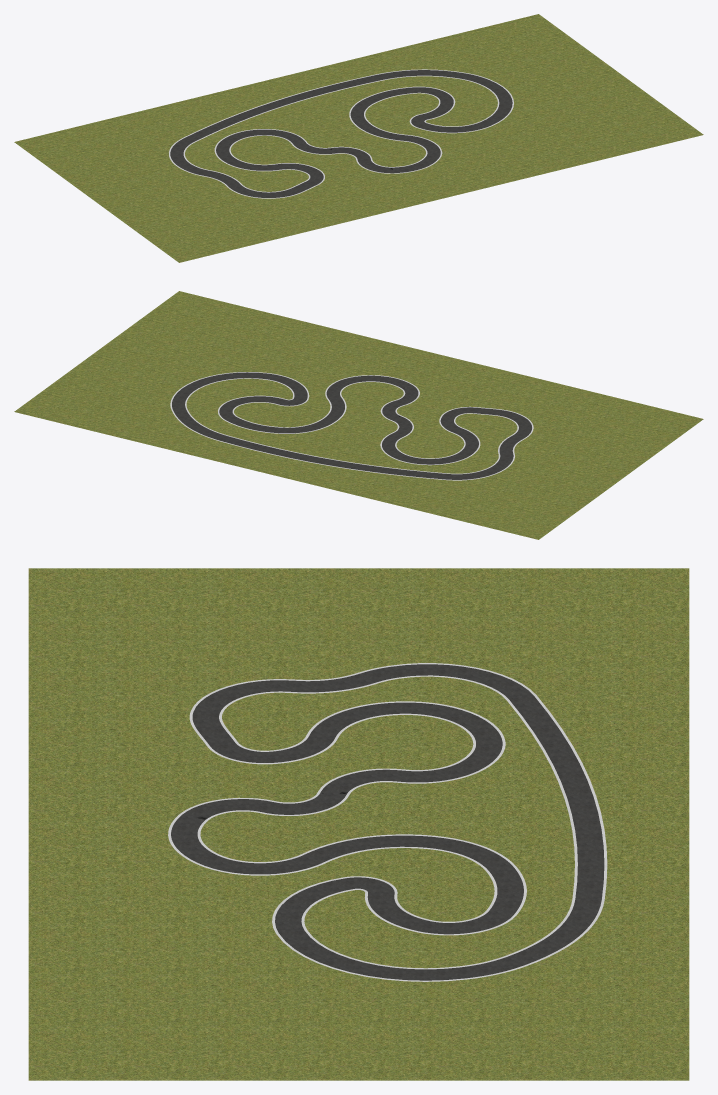
The model's file is track7.dae.
3 views of the same model, one above another, from view 1: azimuth 30°, elevation 25°; view 2: azimuth 150°, elevation 25°; view 3: azimuth 270°, elevation 25° (orthographic). The views are drawn at different scales.
Parts seen in each view (by area): view 1: field, road, outerline, innerline; view 2: field, road, outerline, innerline; view 3: field, road, outerline, innerline.
Part boxes in pixels (bbox=[...]): field: bbox=[14, 14, 703, 262]; road: bbox=[170, 70, 512, 197]; outerline: bbox=[169, 69, 513, 198]; innerline: bbox=[183, 75, 499, 192]; field: bbox=[14, 291, 703, 539]; road: bbox=[172, 372, 531, 479]; outerline: bbox=[170, 372, 533, 480]; innerline: bbox=[185, 378, 518, 474]; field: bbox=[28, 568, 689, 1080]; road: bbox=[171, 664, 604, 980]; outerline: bbox=[168, 663, 607, 981]; innerline: bbox=[197, 675, 577, 969].
Size of the model in its own units: 74.83 by 40.8 by 0.01.
Materials: 3 (3 with a texture image).
